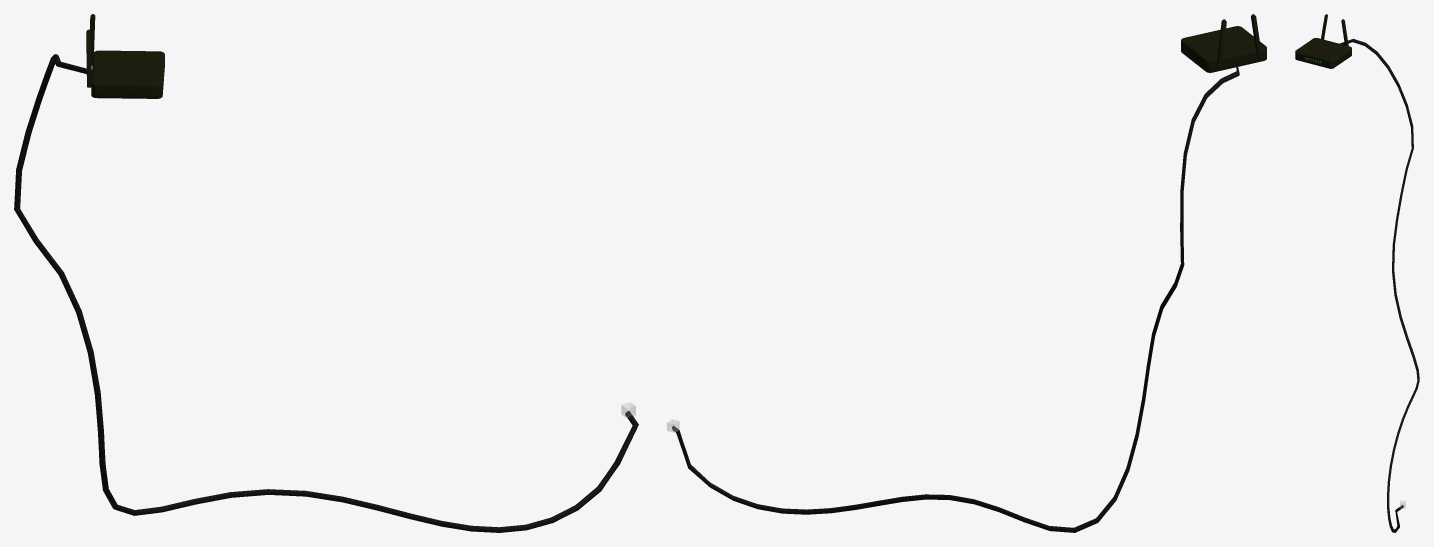
File: modem.gltf
The picture shows the model from 3 angles, left to right: view 1: azimuth 30°, elevation 25°; view 2: azimuth 150°, elevation 25°; view 3: azimuth 270°, elevation 25°; orthographic projection. The views are drawn at different scales.
Parts seen in each view (by area): view 1: Mensola 4 Modem Cavo, Mensola 4 Modem; view 2: Mensola 4 Modem Cavo, Mensola 4 Modem; view 3: Mensola 4 Modem Cavo, Mensola 4 Modem.
Boxes of the visible parts, x1,y1,x2,y2 form: Mensola 4 Modem Cavo: (14,54,638,532); Mensola 4 Modem: (86,14,164,98); Mensola 4 Modem Cavo: (672,59,1239,532); Mensola 4 Modem: (1181,14,1266,72); Mensola 4 Modem Cavo: (1340,38,1419,532); Mensola 4 Modem: (1295,14,1351,68).
Bounding box in the file's own units: 0.9994 × 1.02 × 0.3097.
3 materials, 1 textured.
